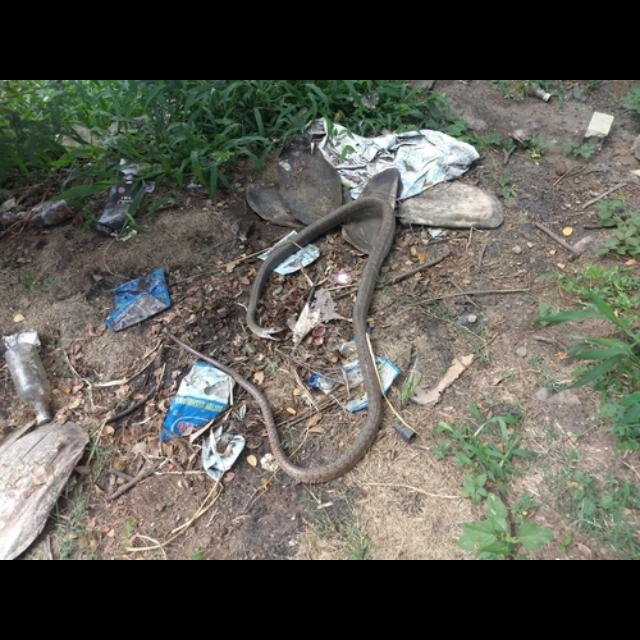snake: (197, 197, 409, 483)
